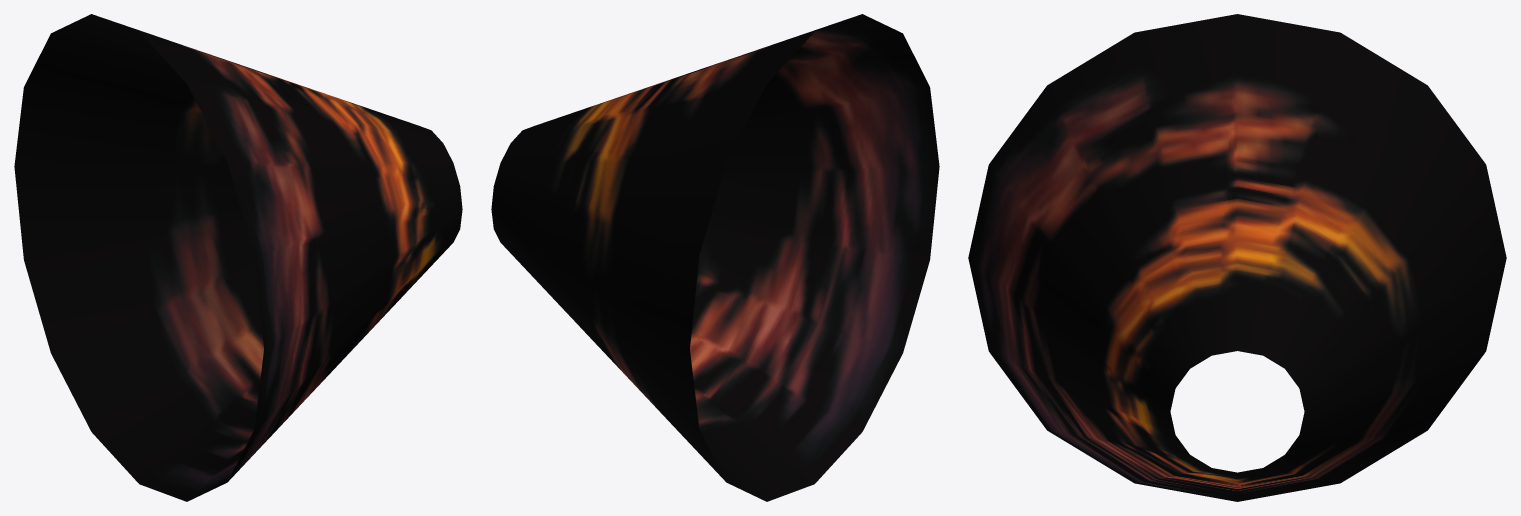
Rendered from fx_fbx_skill_npc_2007_15.FBX.
The picture shows the model from 3 angles, left to right: view 1: azimuth 30°, elevation 25°; view 2: azimuth 150°, elevation 25°; view 3: azimuth 270°, elevation 25°; orthographic projection. The views are drawn at different scales.
Visible parts, largest first — view 1: Cylinder001; view 2: Cylinder001; view 3: Cylinder001.
Boxes of the visible parts, x1=… form: Cylinder001: x1=14, y1=14, x2=462, y2=501; Cylinder001: x1=491, y1=14, x2=939, y2=501; Cylinder001: x1=968, y1=14, x2=1506, y2=501.
Size of the model in its own units: 118 by 175 by 175.
Materials: 1 (1 with a texture image).
